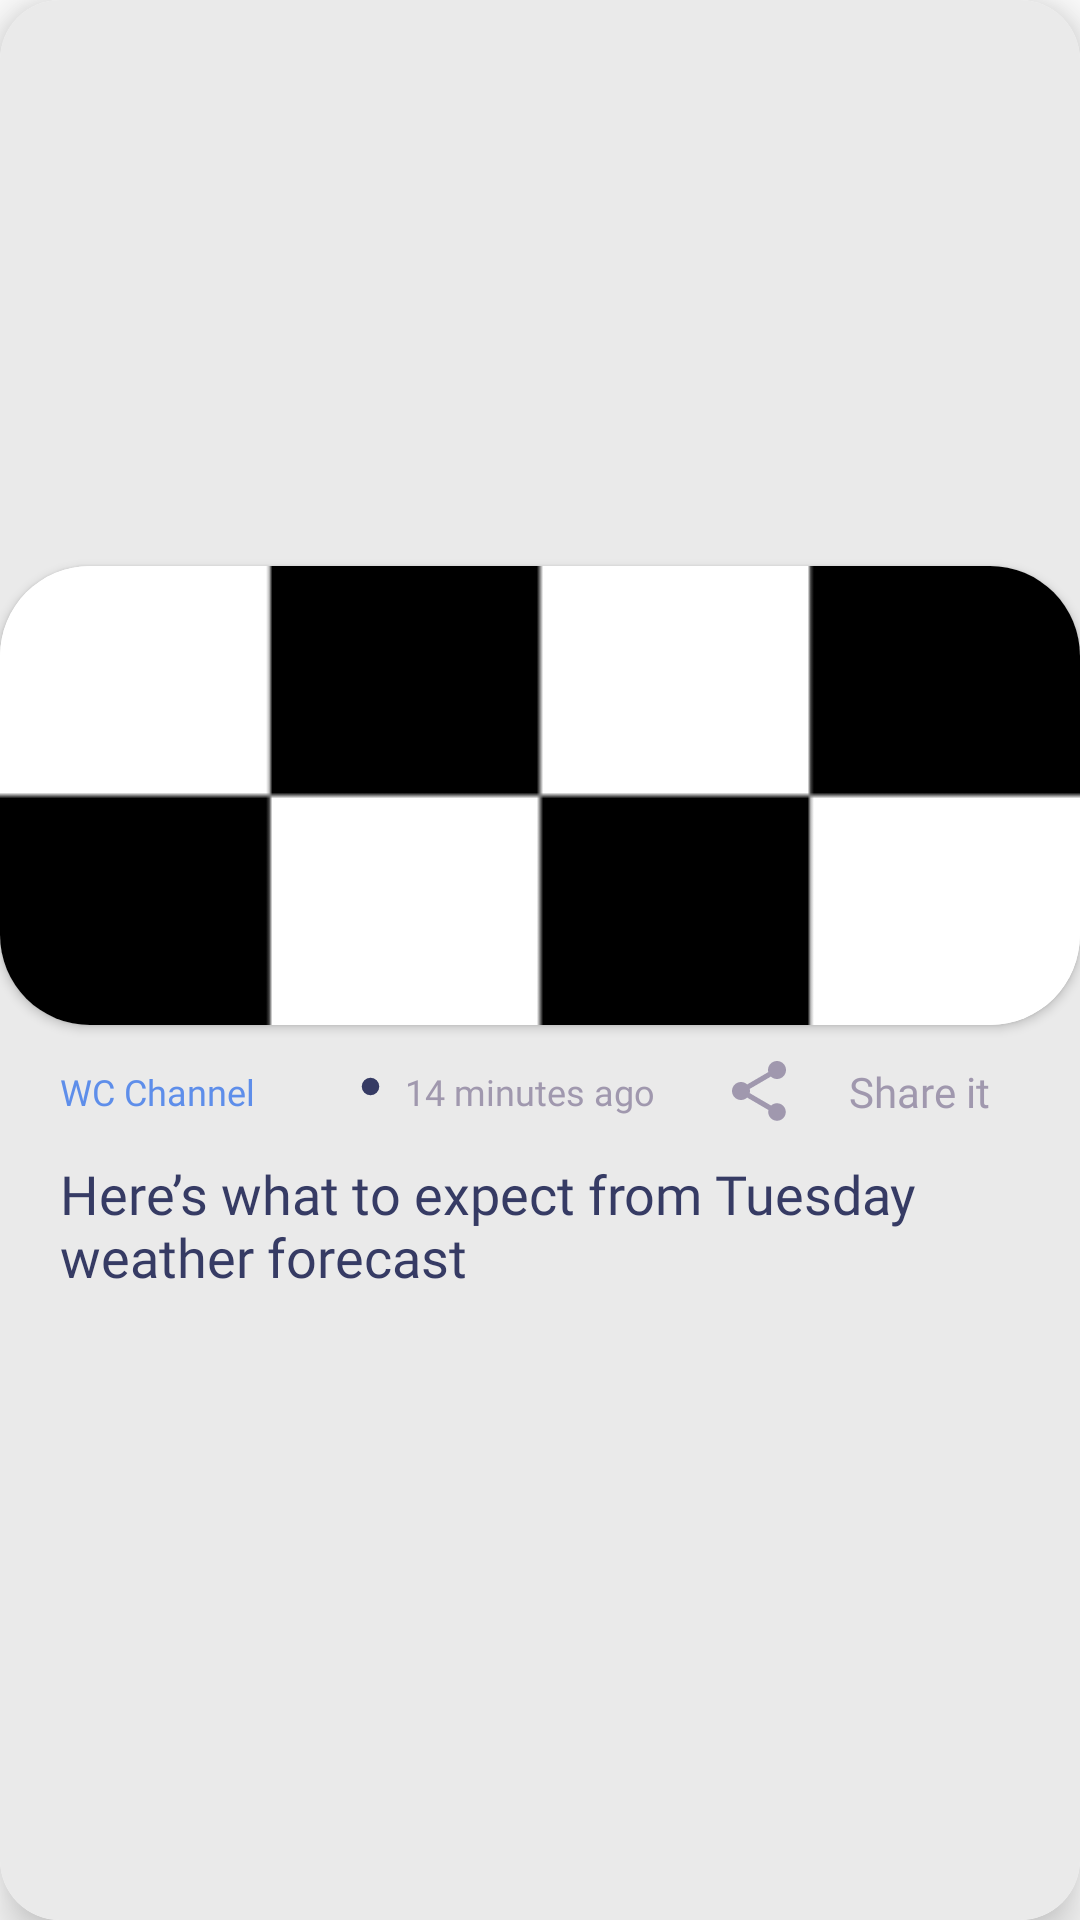

Where to tap for icons on this 1080×1920 app screen, as (x,y):
share secondaru: (759,1091)
